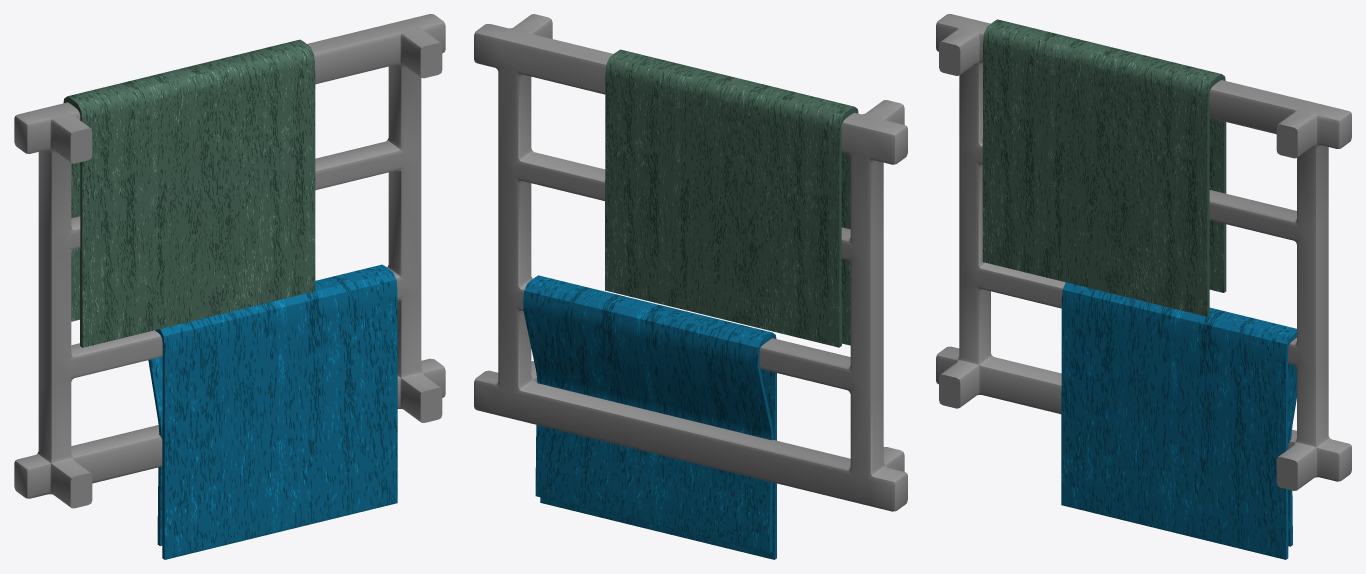
Rendered from Towel Rack.fbx.
The picture shows the model from 3 angles, left to right: view 1: azimuth 30°, elevation 25°; view 2: azimuth 150°, elevation 25°; view 3: azimuth 330°, elevation 25°; orthographic projection. The views are drawn at different scales.
Visible parts, largest first — view 1: Towel Green, Towel Blue, Towel Rack; view 2: Towel Green, Towel Rack, Towel Blue; view 3: Towel Green, Towel Blue, Towel Rack.
Part boxes in pixels (left/top/right/bottom): Towel Green: left=63, top=39, right=315, bottom=347; Towel Blue: left=148, top=264, right=397, bottom=559; Towel Rack: left=14, top=14, right=445, bottom=508; Towel Green: left=605, top=49, right=858, bottom=347; Towel Rack: left=474, top=14, right=907, bottom=511; Towel Blue: left=523, top=275, right=776, bottom=559; Towel Green: left=982, top=19, right=1226, bottom=316; Towel Blue: left=1061, top=282, right=1296, bottom=559; Towel Rack: left=936, top=14, right=1351, bottom=490.
Size of the model in its own units: 83.67 by 89.95 by 12.53.
Materials: 3 (2 with a texture image).
